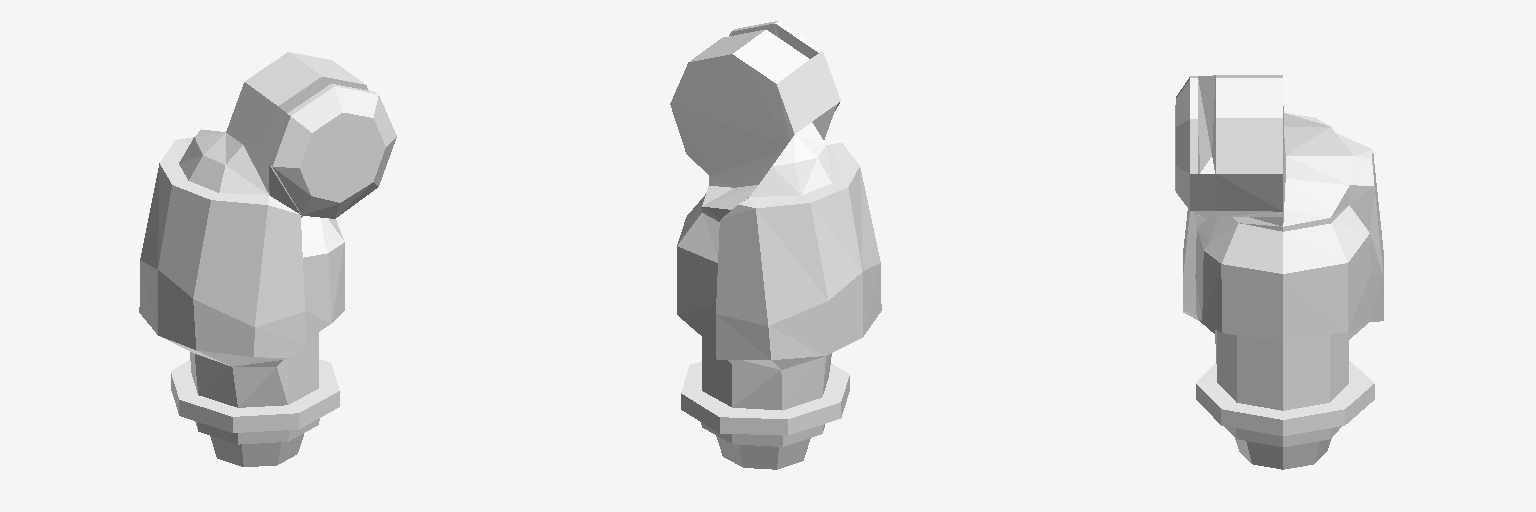
Rendered from aj3_left.obj.
3 renders of one model, left to right at view 1: azimuth 30°, elevation 25°; view 2: azimuth 150°, elevation 25°; view 3: azimuth 270°, elevation 25°, orthographic.
Bounding box in the file's own units: 0.1459 × 0.2818 × 0.137.